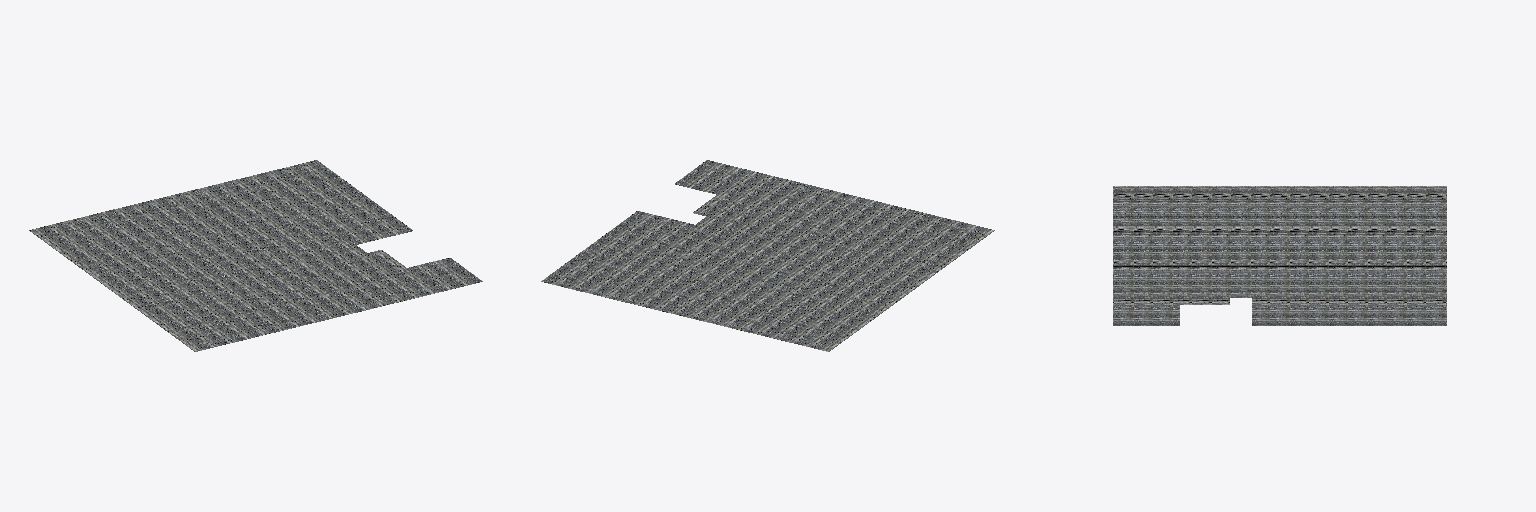
The picture shows the model from 3 angles: view 1: azimuth 30°, elevation 25°; view 2: azimuth 150°, elevation 25°; view 3: azimuth 270°, elevation 25°; orthographic projection.
Parts seen in each view (by area): view 1: pPlane1; view 2: pPlane1; view 3: pPlane1.
Boxes of the visible parts, <box> form: pPlane1: <box>29,160,482,351</box>; pPlane1: <box>541,160,994,351</box>; pPlane1: <box>1113,186,1446,325</box>.
Bounding box in the file's own units: 23.94 × 0 × 23.94.
Materials: 1 (1 with a texture image).